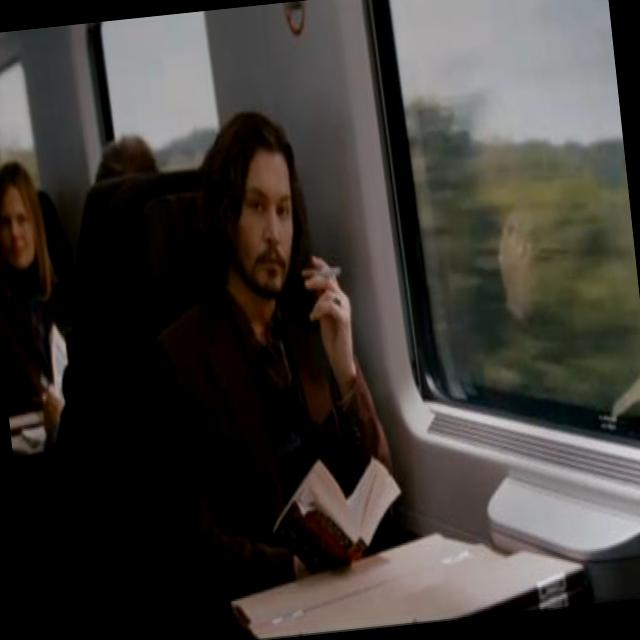cigarette: (288, 245, 352, 288)
